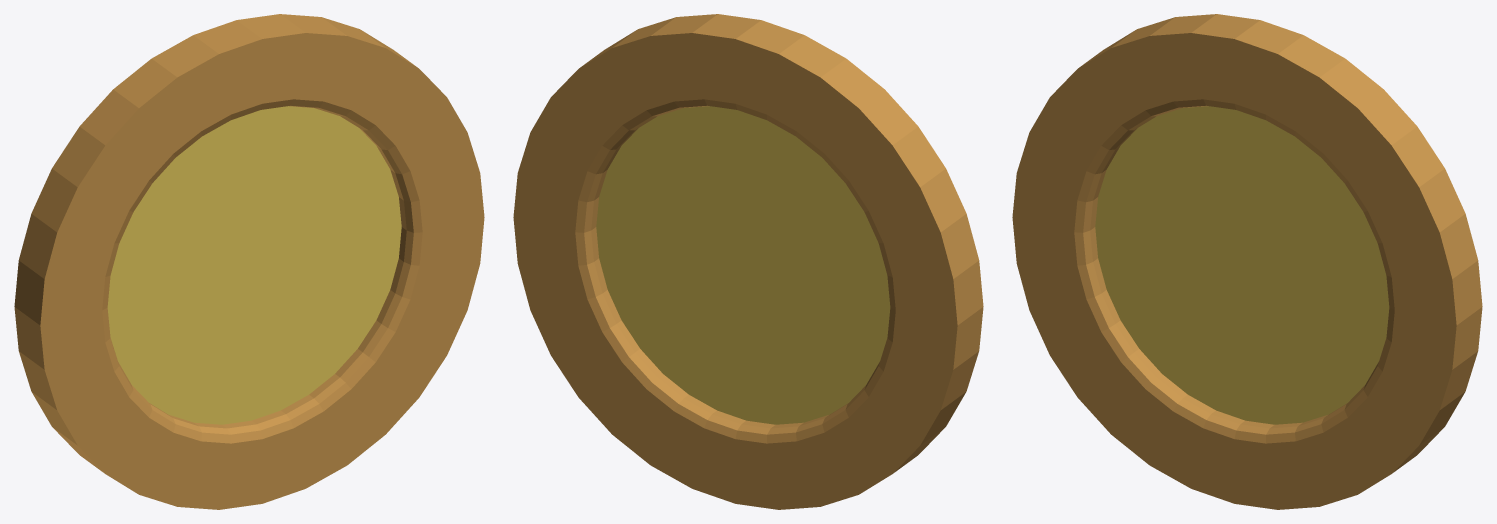
The model's file is gold.fbx.
3 views of the same model, side by side, from view 1: azimuth 30°, elevation 25°; view 2: azimuth 150°, elevation 25°; view 3: azimuth 330°, elevation 25° (orthographic).
Visible parts, largest first — view 1: Circle, Circle.001; view 2: Circle, Circle.001; view 3: Circle, Circle.001.
Boxes of the visible parts, <box> form: Circle: <box>14,14,484,509</box>; Circle.001: <box>107,106,401,424</box>; Circle: <box>513,14,983,509</box>; Circle.001: <box>596,106,890,424</box>; Circle: <box>1012,14,1482,509</box>; Circle.001: <box>1095,106,1389,424</box>.
Bounding box in the file's own units: 100 × 100 × 10.1.
